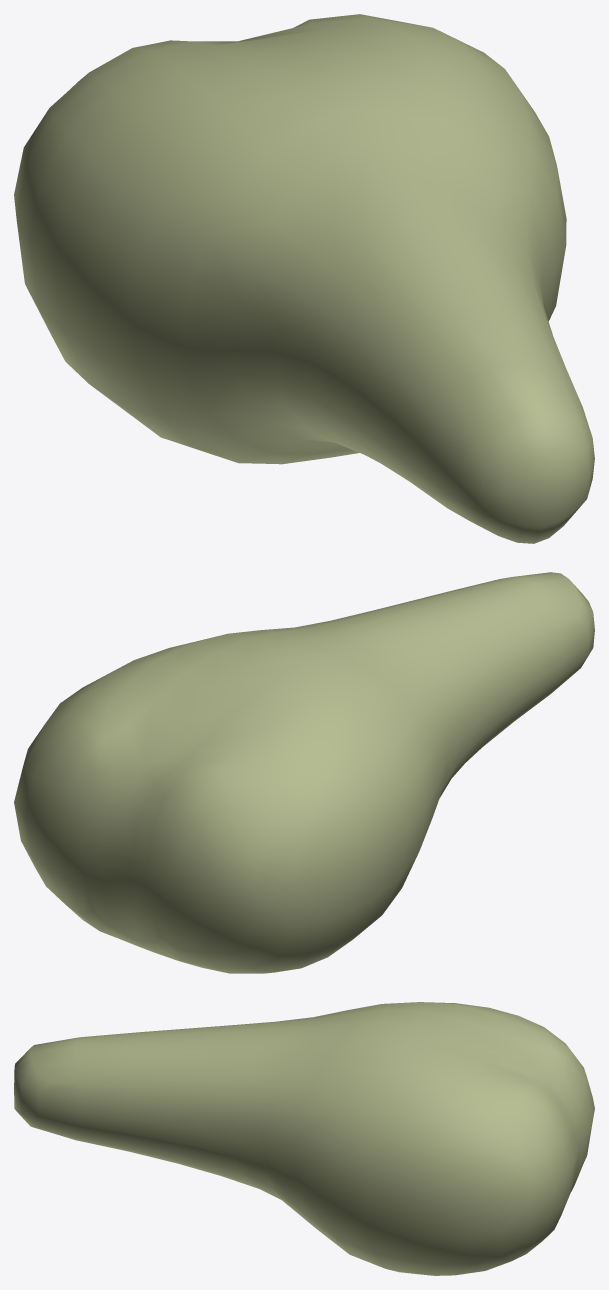
Rendered from GreenGrapeSeed002.obj.
3 renders of one model, top to bottom at view 1: azimuth 30°, elevation 25°; view 2: azimuth 150°, elevation 25°; view 3: azimuth 270°, elevation 25°, orthographic. The views are drawn at different scales.
Parts seen in each view (by area): view 1: GreenGrapeSeed002; view 2: GreenGrapeSeed002; view 3: GreenGrapeSeed002.
Boxes of the visible parts, <box> form: GreenGrapeSeed002: <box>14,14,594,543</box>; GreenGrapeSeed002: <box>14,572,594,973</box>; GreenGrapeSeed002: <box>14,1002,594,1275</box>.
Size of the model in its own units: 0.00255 by 0.002 by 0.00458.
